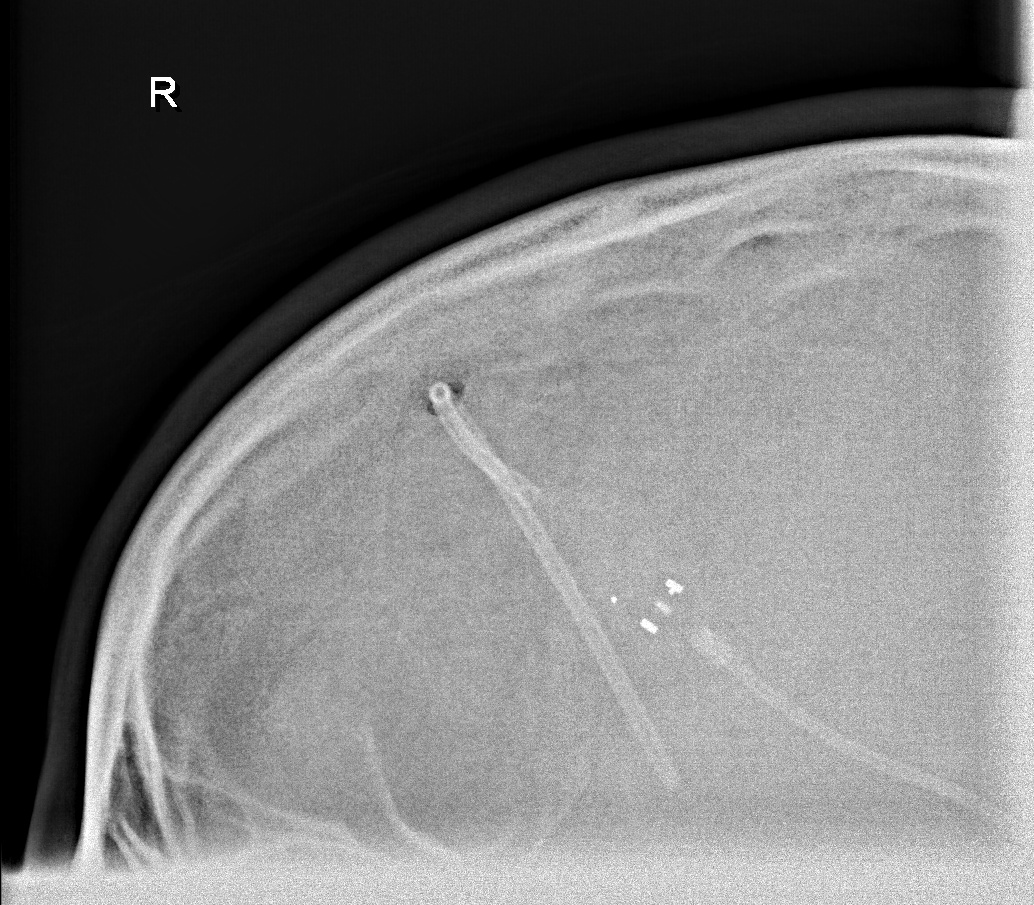Codman Certas: (597, 552, 707, 647)
